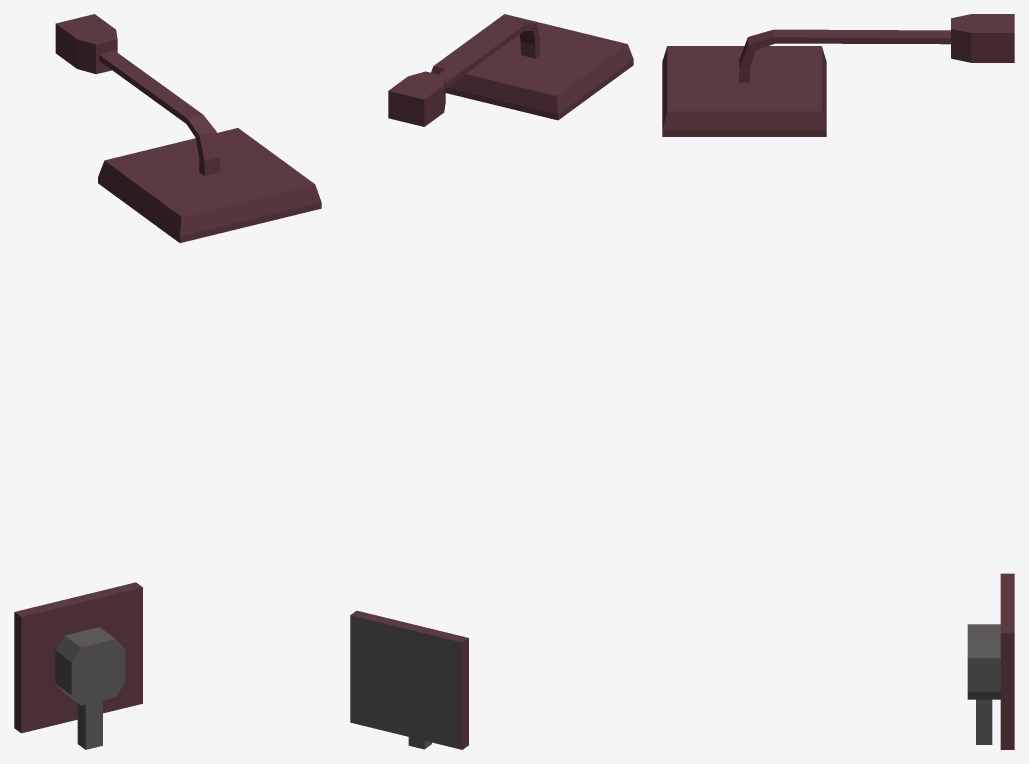
File: shower-set-square.fbx
3 renders of one model, left to right at view 1: azimuth 30°, elevation 25°; view 2: azimuth 150°, elevation 25°; view 3: azimuth 270°, elevation 25°, orthographic. The views are drawn at different scales.
Visible parts, largest first — view 1: shower-set-square; view 2: shower-set-square; view 3: shower-set-square.
Boxes of the visible parts, <box> form: shower-set-square: <box>14,14,321,749</box>; shower-set-square: <box>350,14,633,749</box>; shower-set-square: <box>662,14,1014,749</box>.
Size of the model in its own units: 0.2652 by 1.28 by 0.5688.
